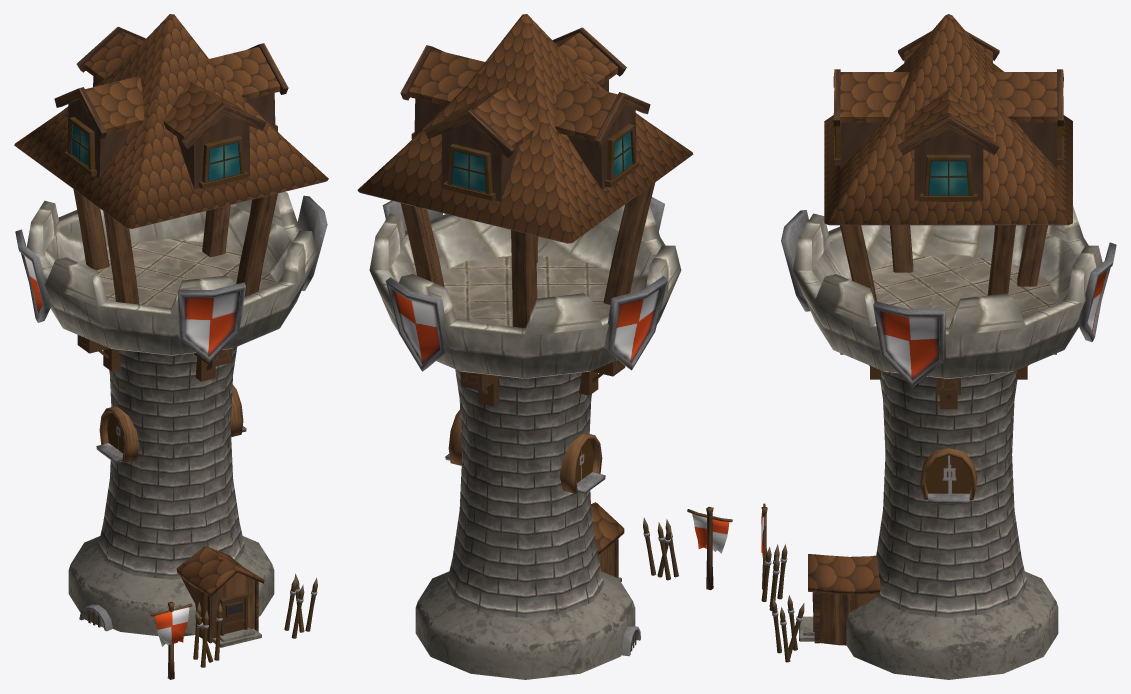
Rendered from tower1.glb.
3 renders of one model, left to right at view 1: azimuth 30°, elevation 25°; view 2: azimuth 150°, elevation 25°; view 3: azimuth 270°, elevation 25°, orthographic. The views are drawn at different scales.
Parts seen in each view (by area): view 1: tower; view 2: tower; view 3: tower.
Part boxes in pixels (x1=…): tower: x1=14, y1=14, x2=328, y2=679; tower: x1=357, y1=14, x2=732, y2=679; tower: x1=761, y1=14, x2=1116, y2=679.
Size of the model in its own units: 2.95 by 6 by 3.12.
Materials: 1 (1 with a texture image).
